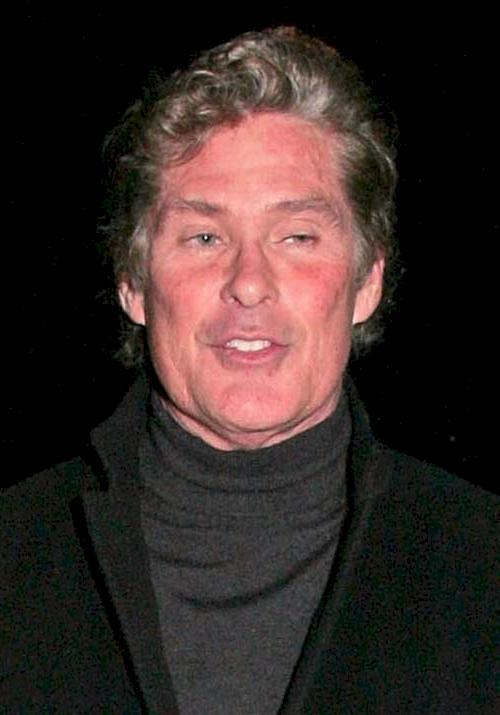Drunk: (152, 119, 345, 413)
